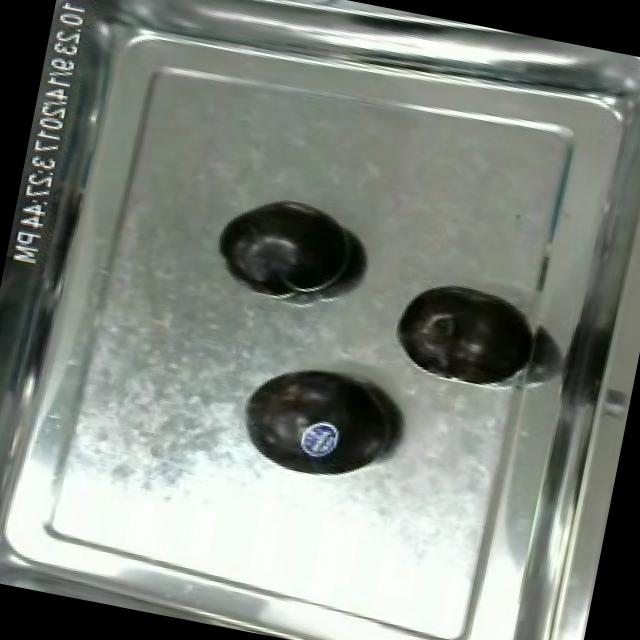Fruit: (224, 348, 408, 496), (206, 185, 366, 309), (386, 273, 542, 394)
